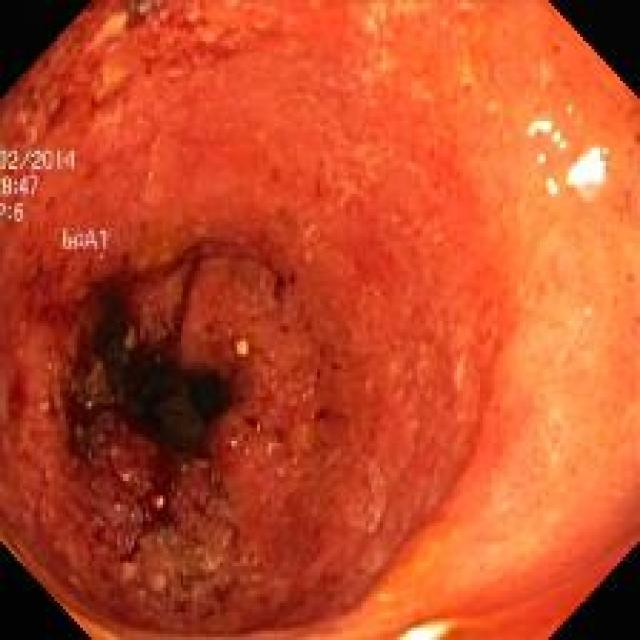ulcerative-colitis-grade-2-3: (1, 3, 640, 637)
